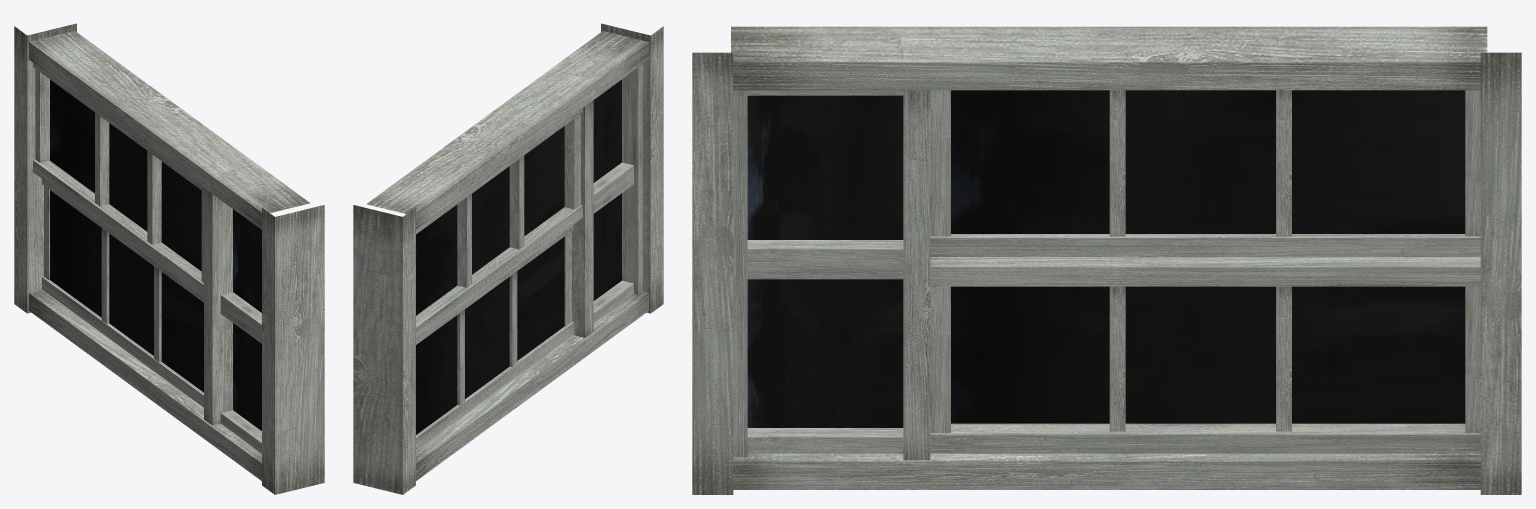
File: caen_window_white_clean_3.glb
3 renders of one model, left to right at view 1: azimuth 30°, elevation 25°; view 2: azimuth 150°, elevation 25°; view 3: azimuth 270°, elevation 25°, orthographic. The views are drawn at different scales.
Size of the model in its own units: 7.98 by 42.72 by 72.59.
Materials: 1 (1 with a texture image).
